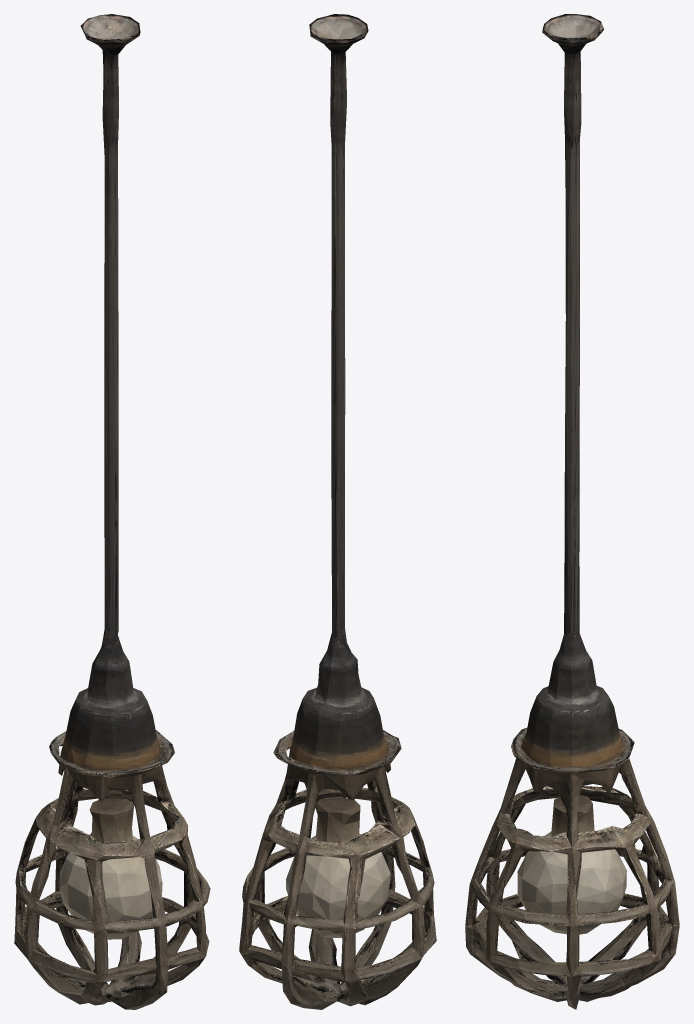
File: hanging_utility_light.glb
3 views of the same model, side by side, from view 1: azimuth 30°, elevation 25°; view 2: azimuth 150°, elevation 25°; view 3: azimuth 270°, elevation 25° (orthographic).
Visible parts, largest first — view 1: geometry_0; view 2: geometry_0; view 3: geometry_0.
Boxes of the visible parts, bbox=[...] form: geometry_0: bbox=[14, 14, 210, 1009]; geometry_0: bbox=[239, 14, 436, 1009]; geometry_0: bbox=[465, 14, 679, 1009].
Size of the model in its own units: 0.1826 by 1 by 0.2009.
1 material, 1 textured.
